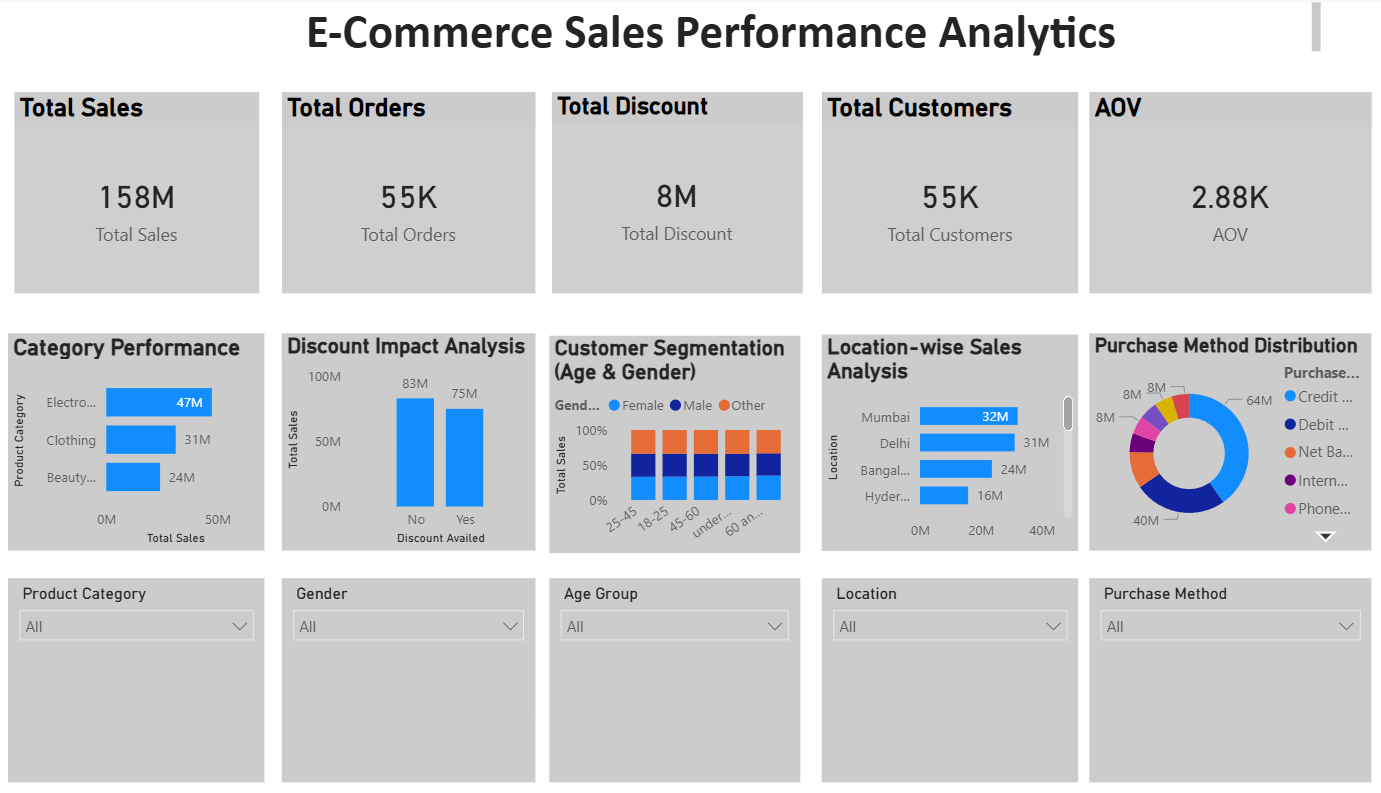

The page's visual inventory and layout, read from the dashboard file:
{"tool":"powerbi","page":{"name":"Page 1","canvas":[1280,720],"ordinal":0},"visuals":[{"type":"card","title":"Total Orders","fields":{"Values":["orderscustomer.Total Orders"]},"box":[259.8,85.3,228.7,181.3],"z":0},{"type":"card","title":"Total Sales","fields":{"Values":["orderscustomer.Total Sales"]},"box":[18.9,85.3,220.6,181.3],"z":1000},{"type":"card","title":"Total Discount","fields":{"Values":["orderscustomer.Total Discount"]},"box":[503.4,85.3,226,181.3],"z":2000},{"type":"card","title":"Total Customers","fields":{"Values":["orderscustomer.Total Customers"]},"box":[747.1,85.3,231.4,181.3],"z":3000},{"type":"card","title":"AOV","fields":{"Values":["orderscustomer.AOV"]},"box":[988.5,85.7,254.7,181.5],"z":4000},{"type":"clusteredBarChart","title":"Category Performance","fields":{"Category":["orderscustomer.Product Category"],"Y":["orderscustomer.Total Sales"]},"box":[13.5,303.2,231.4,196.2],"z":5000},{"type":"clusteredColumnChart","title":"Discount Impact Analysis","fields":{"Category":["orderscustomer.Discount Availed"],"Y":["orderscustomer.Total Sales"]},"box":[259.8,303.2,228.7,196.2],"z":6000},{"type":"hundredPercentStackedColumnChart","title":"Customer Segmentation (Age & Gender)","fields":{"Category":["orderscustomer.Age Group"],"Y":["orderscustomer.Total Sales"],"Series":["orderscustomer.Gender"]},"box":[502.1,305.9,226,196.2],"z":7000},{"type":"barChart","title":"Location-wise Sales Analysis","fields":{"Category":["orderscustomer.Location"],"Y":["orderscustomer.Total Sales"]},"box":[747.1,304.5,231.4,194.9],"z":8000},{"type":"donutChart","title":"Purchase Method Distribution","fields":{"Category":["orderscustomer.Purchase Method"],"Y":["orderscustomer.Total Sales"]},"box":[987.9,303.2,254.4,196.2],"z":9000},{"type":"slicer","fields":{"Values":["orderscustomer.Product Category"]},"box":[13.5,523.7,231.4,184.1],"z":10000},{"type":"slicer","fields":{"Values":["orderscustomer.Gender"]},"box":[259.8,523.7,228.7,184.1],"z":11000},{"type":"slicer","fields":{"Values":["orderscustomer.Age Group"]},"box":[502.1,523.7,226,184.1],"z":12000},{"type":"slicer","fields":{"Values":["orderscustomer.Location"]},"box":[747.1,523.7,231.4,184.1],"z":13000},{"type":"slicer","fields":{"Values":["orderscustomer.Purchase Method"]},"box":[987.9,523.7,254.4,184.1],"z":14000},{"type":"textbox","box":[100.1,0,1101.6,58.2],"z":14001}]}

Visuals, with their boxes in screenshot pixels (x1, y1, x2, y2), scaled from the page's 1280x720 canvas onto the 1381x793 screenshot:
"Total Orders" card: select_region(280, 94, 527, 294)
"Total Sales" card: select_region(20, 94, 258, 294)
"Total Discount" card: select_region(543, 94, 787, 294)
"Total Customers" card: select_region(806, 94, 1056, 294)
"AOV" card: select_region(1066, 94, 1341, 294)
"Category Performance" clusteredBarChart: select_region(15, 334, 264, 550)
"Discount Impact Analysis" clusteredColumnChart: select_region(280, 334, 527, 550)
"Customer Segmentation (Age & Gender)" hundredPercentStackedColumnChart: select_region(542, 337, 786, 553)
"Location-wise Sales Analysis" barChart: select_region(806, 335, 1056, 550)
"Purchase Method Distribution" donutChart: select_region(1066, 334, 1340, 550)
slicer - orderscustomer.Product Category: select_region(15, 577, 264, 780)
slicer - orderscustomer.Gender: select_region(280, 577, 527, 780)
slicer - orderscustomer.Age Group: select_region(542, 577, 786, 780)
slicer - orderscustomer.Location: select_region(806, 577, 1056, 780)
slicer - orderscustomer.Purchase Method: select_region(1066, 577, 1340, 780)
textbox: select_region(108, 0, 1297, 64)
